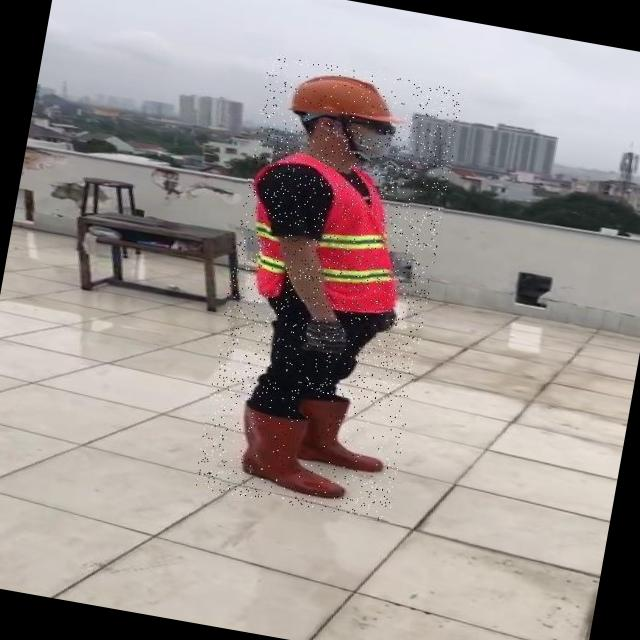hard_hat: (282, 64, 407, 132)
safety_vest: (233, 144, 414, 317)
vehicle: (193, 55, 464, 522)
work_boots: (220, 397, 358, 505), (286, 390, 394, 476)
